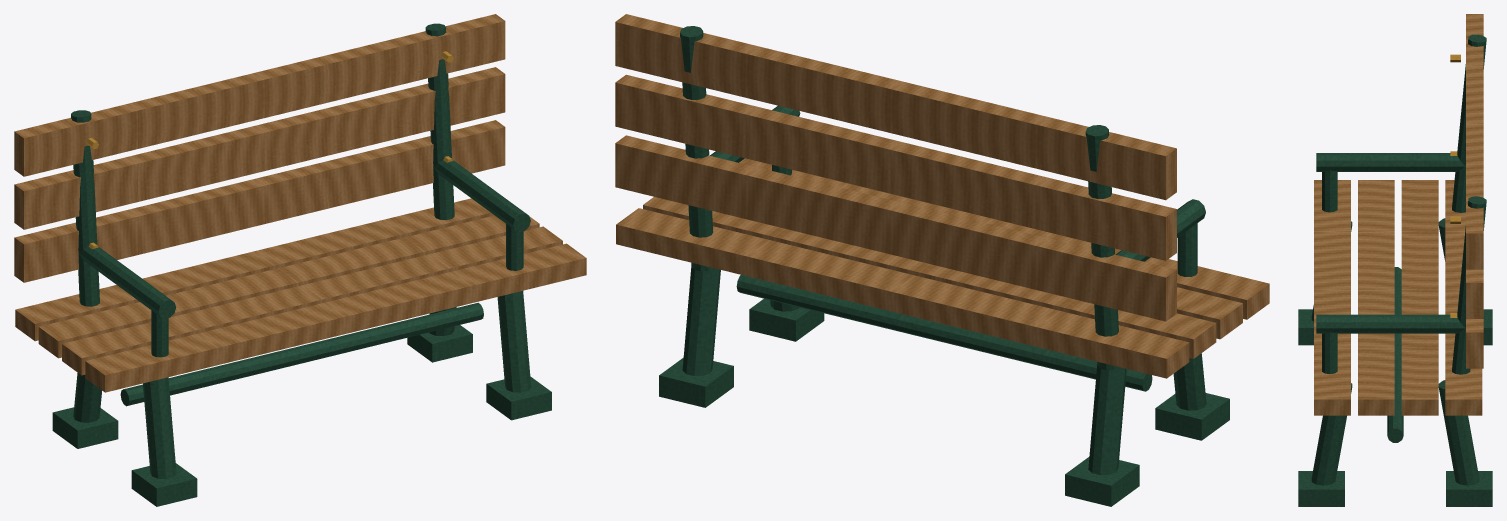
3 renders of one model, left to right at view 1: azimuth 30°, elevation 25°; view 2: azimuth 150°, elevation 25°; view 3: azimuth 270°, elevation 25°, orthographic. The views are drawn at different scales.
Visible parts, largest first — view 1: bench; view 2: bench; view 3: bench.
Boxes of the visible parts, x1,y1,x2,y2 form: bench: (14,14,586,506); bench: (615,14,1269,506); bench: (1298,14,1492,506).
Size of the model in its own units: 1.9 by 1.2 by 0.71.
Materials: 3 (3 with a texture image).
